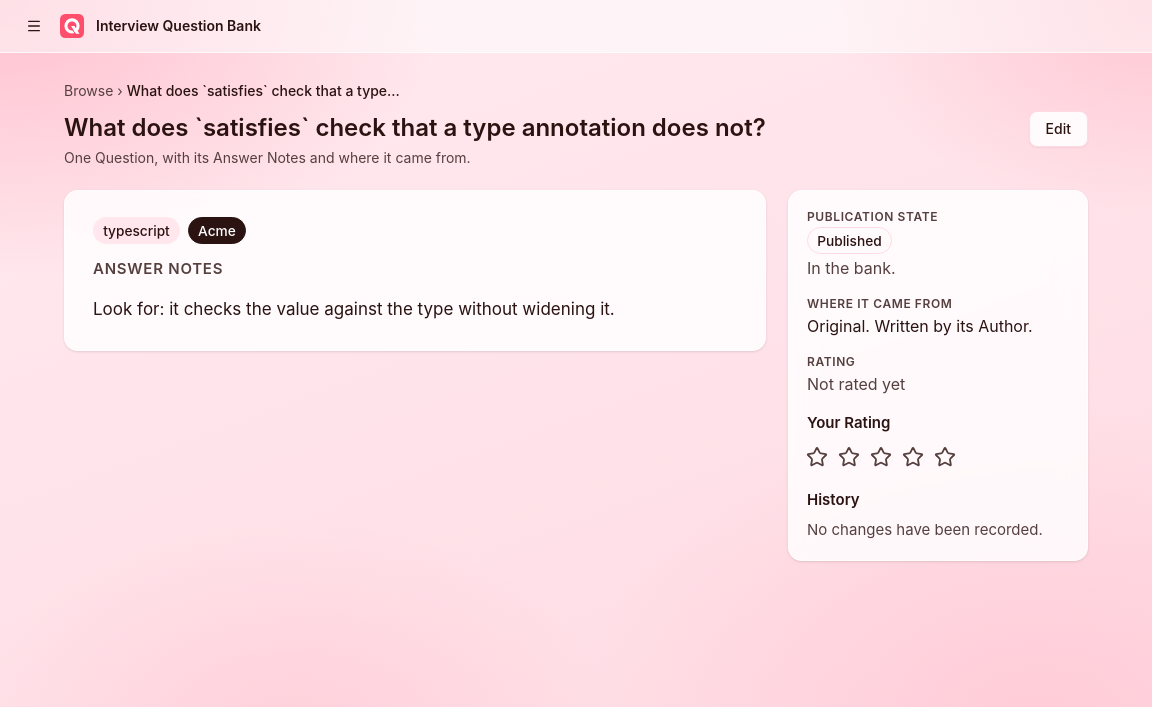
Scenario: changing a Question's Clients by editing it › leaves the Clients out of an edit that changes only the text
The image size is (1152, 707).
Click the link "Edit". click: x=1058, y=129
box: [1029,111,1088,147]
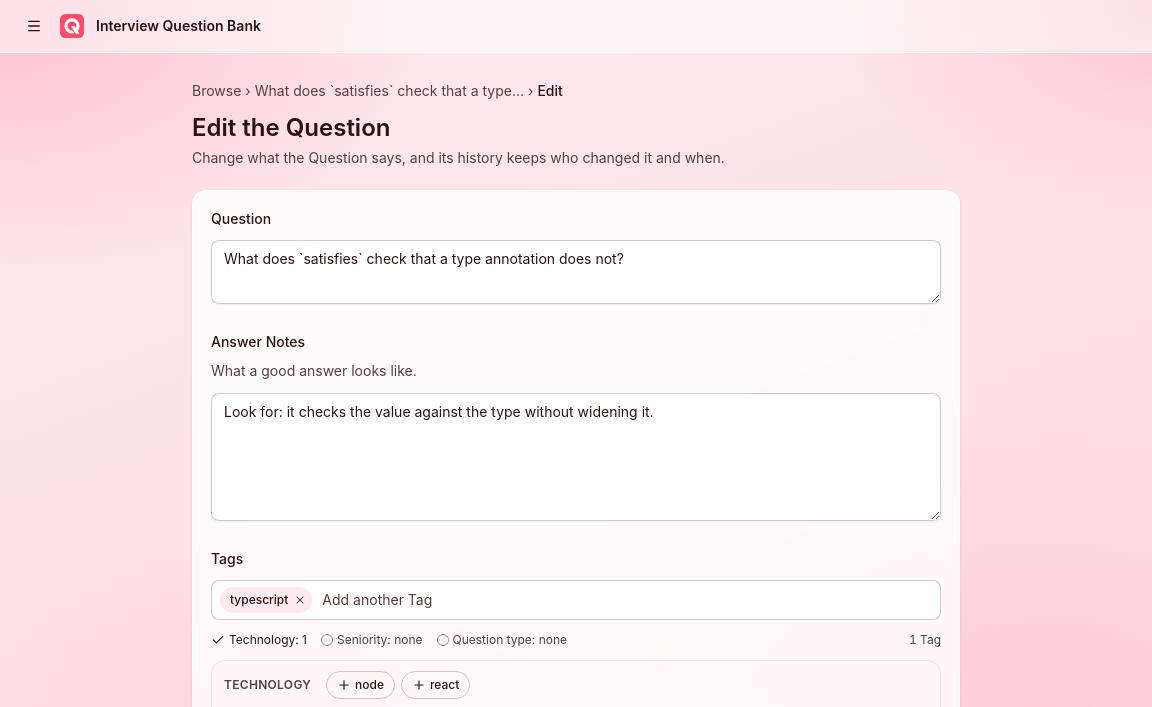
Replace the text in the text box labelled "Question" with "What does `satisfies` check?". click: x=576, y=272
box: [211,240,941,304]
(page scrolled)
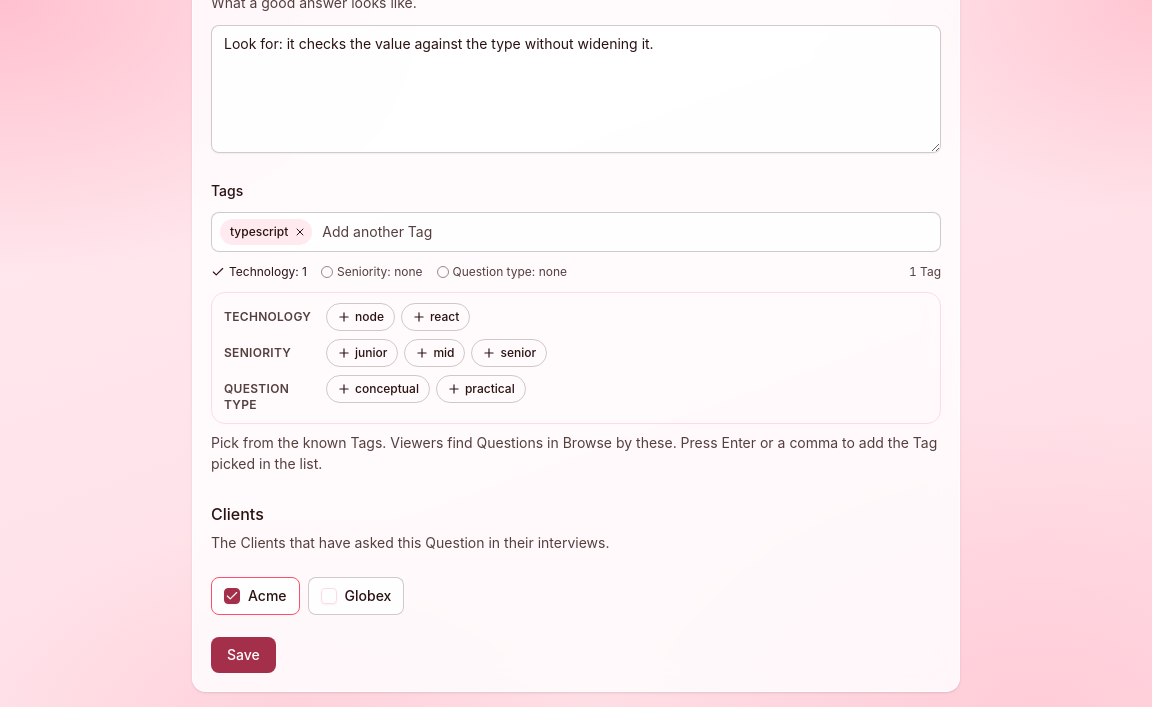
Click the button "Save". click: x=243, y=655
box: [211,637,276,673]
(page scrolled)
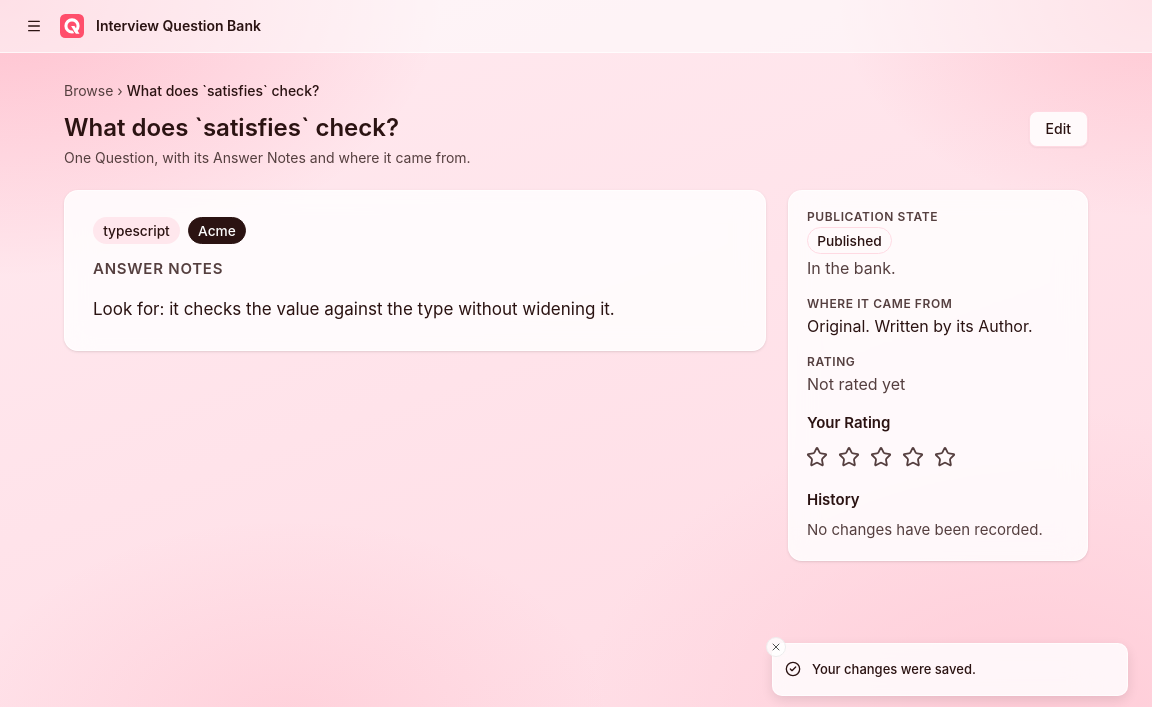
Check: the heading "What does `satisfies` check?" is shown, box [64,113,399,142]
